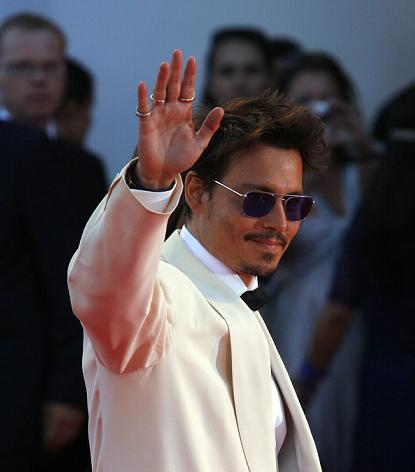face: (186, 144, 302, 275)
hand: (135, 48, 224, 183)
